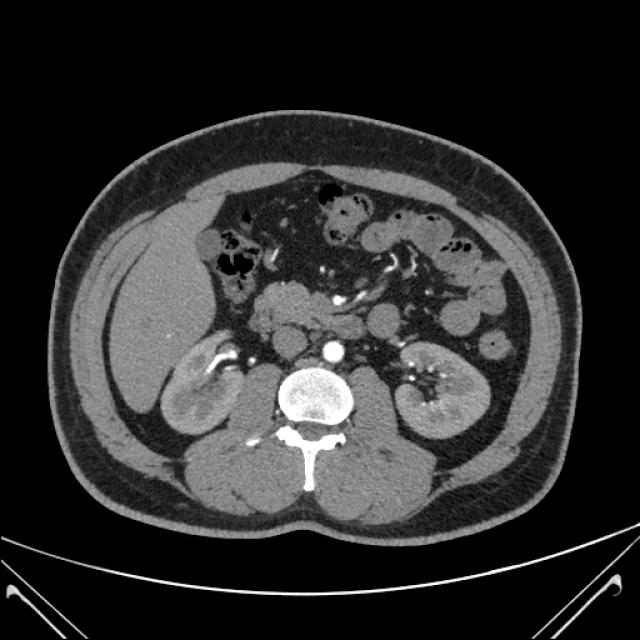Kidney: (21, 83, 640, 588)
